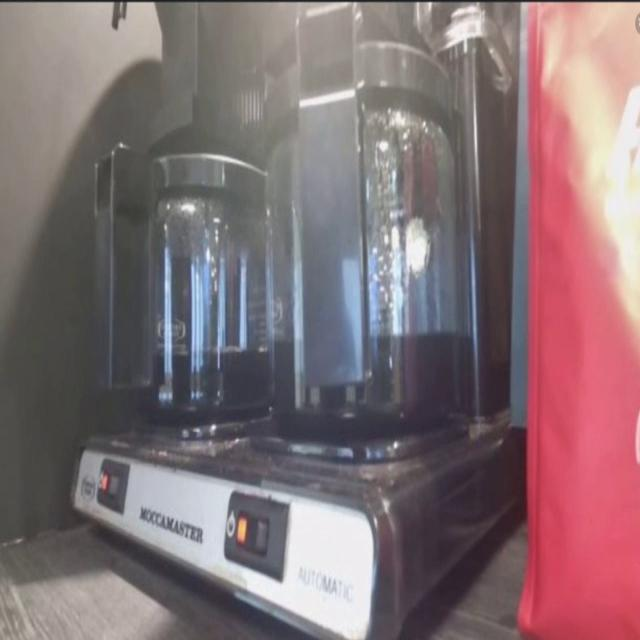coffee: (265, 157, 457, 423), (136, 218, 267, 412)
